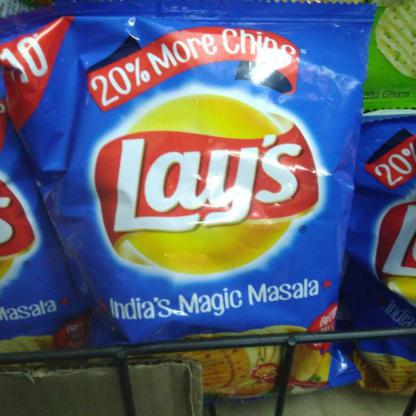indian_magic_masala: (3, 0, 366, 386), (0, 82, 88, 369), (344, 111, 415, 395)
